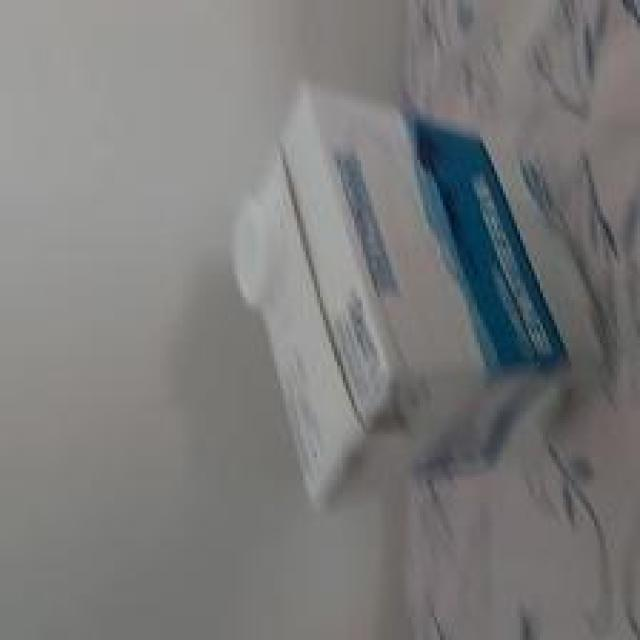Carton: (232, 80, 616, 510)
